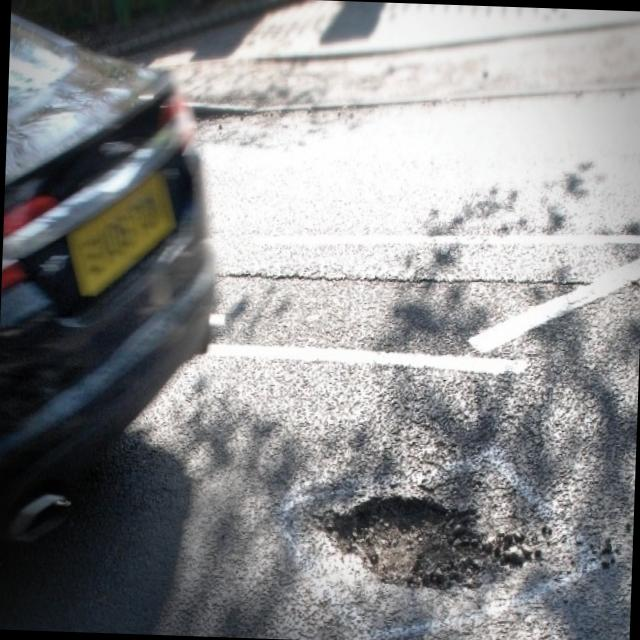Potholes: (306, 454, 540, 609)
